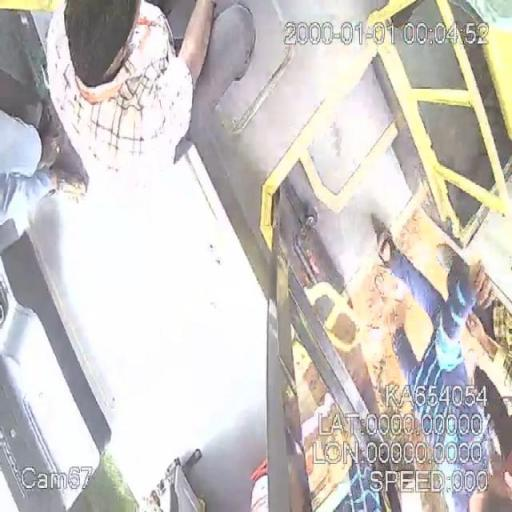persona: (368, 212, 510, 510), (26, 1, 272, 170)
